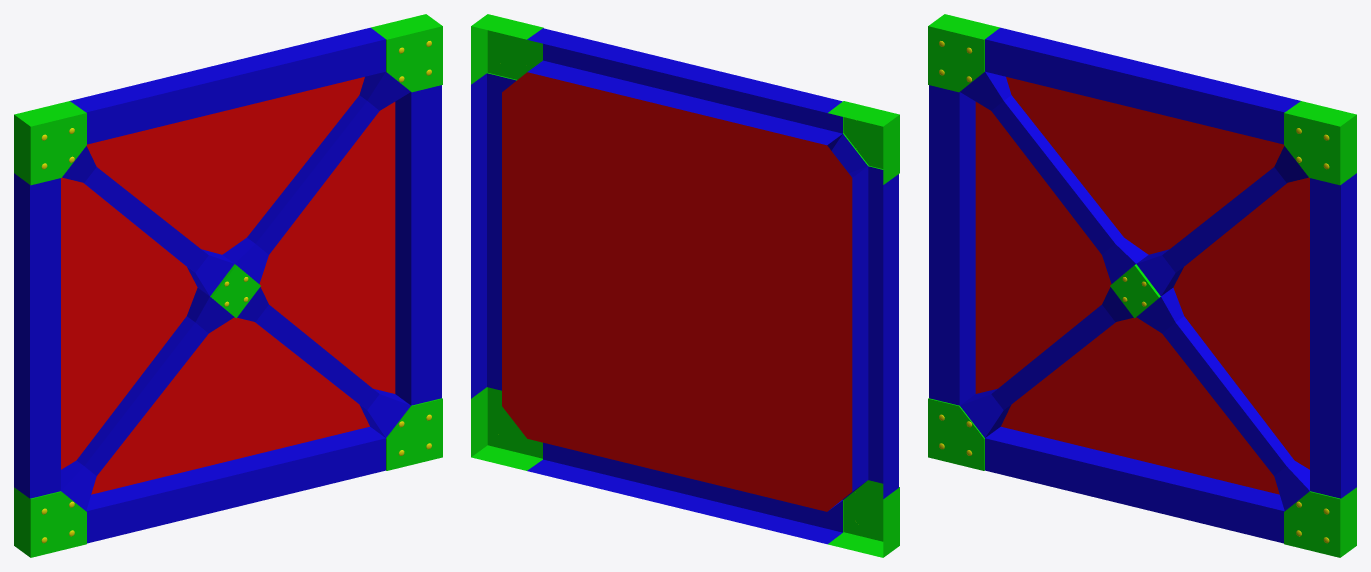
The model's file is UGFacility_LK_Wall.fbx.
3 renders of one model, left to right at view 1: azimuth 30°, elevation 25°; view 2: azimuth 150°, elevation 25°; view 3: azimuth 330°, elevation 25°, orthographic.
Visible parts, largest first — view 1: Wall; view 2: Wall; view 3: Wall.
Boxes of the visible parts, <box> form: Wall: <box>14,14,442,557</box>; Wall: <box>471,14,899,557</box>; Wall: <box>928,14,1356,557</box>.
Size of the model in its own units: 300 by 300 by 21.6.
